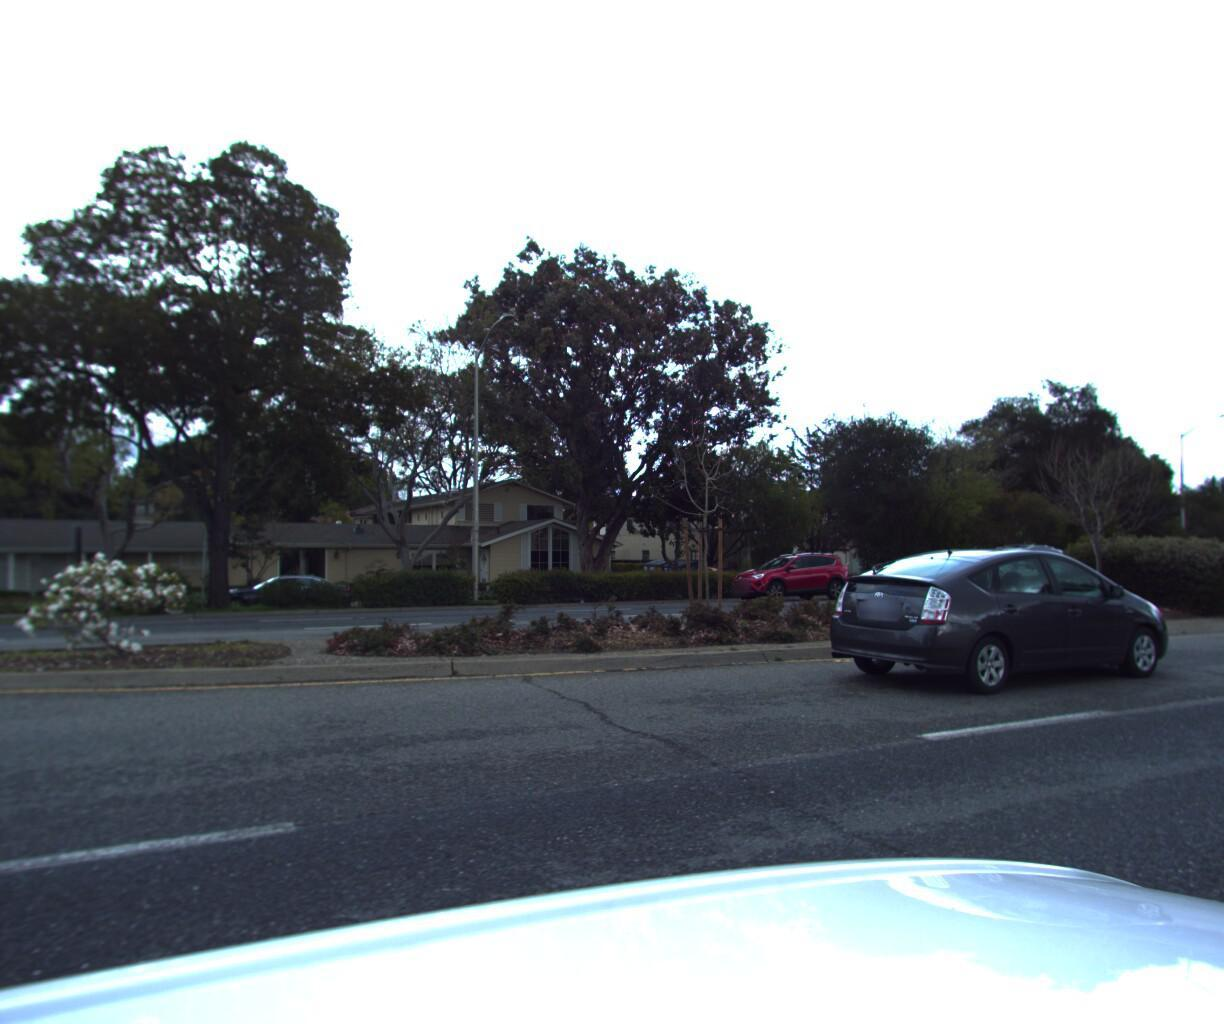car: (814, 550, 1181, 703), (931, 543, 1082, 602), (200, 573, 343, 622), (717, 549, 852, 601)
